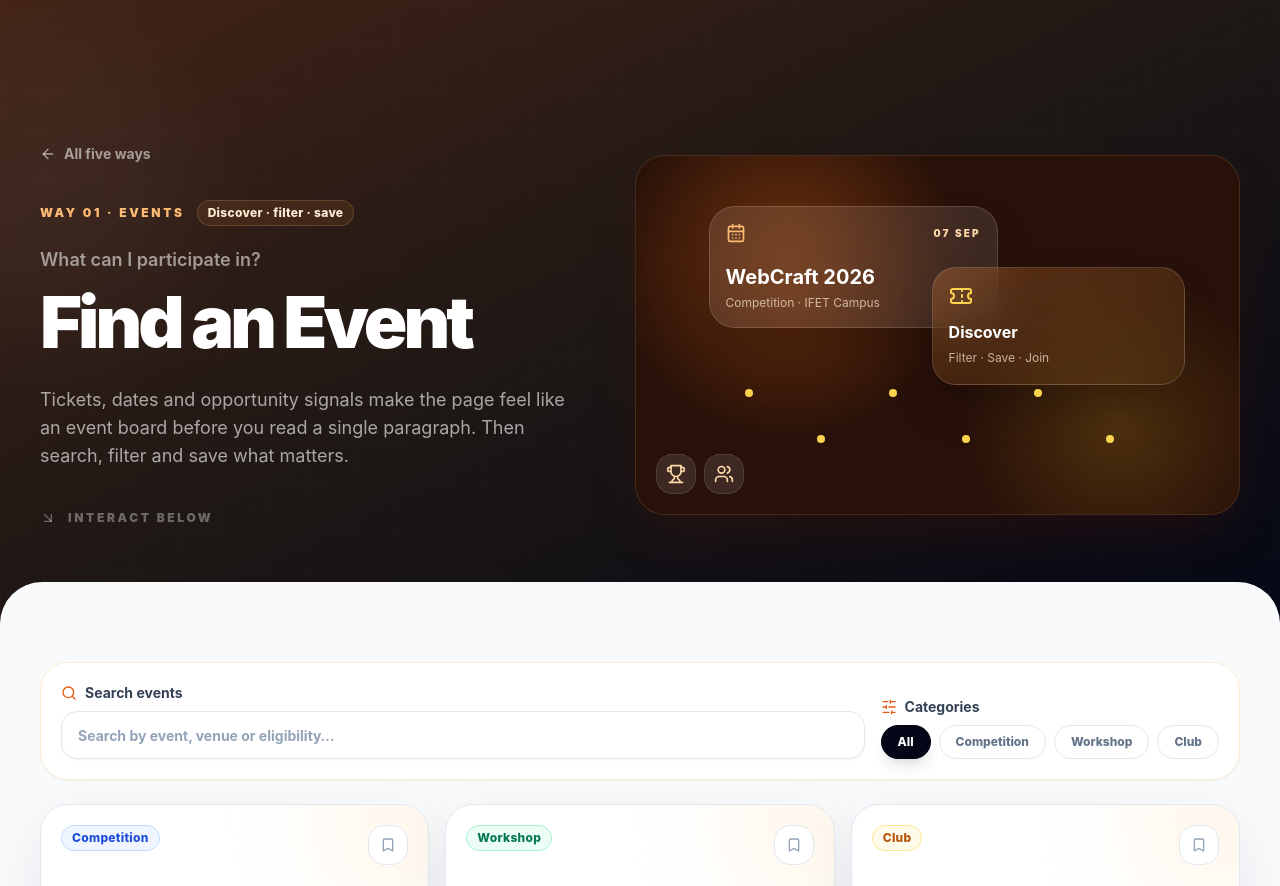
Scenario: filters events and can save an event
Type "web" into the field labelled "Search events" at (463, 735), box [61,711,864,759]
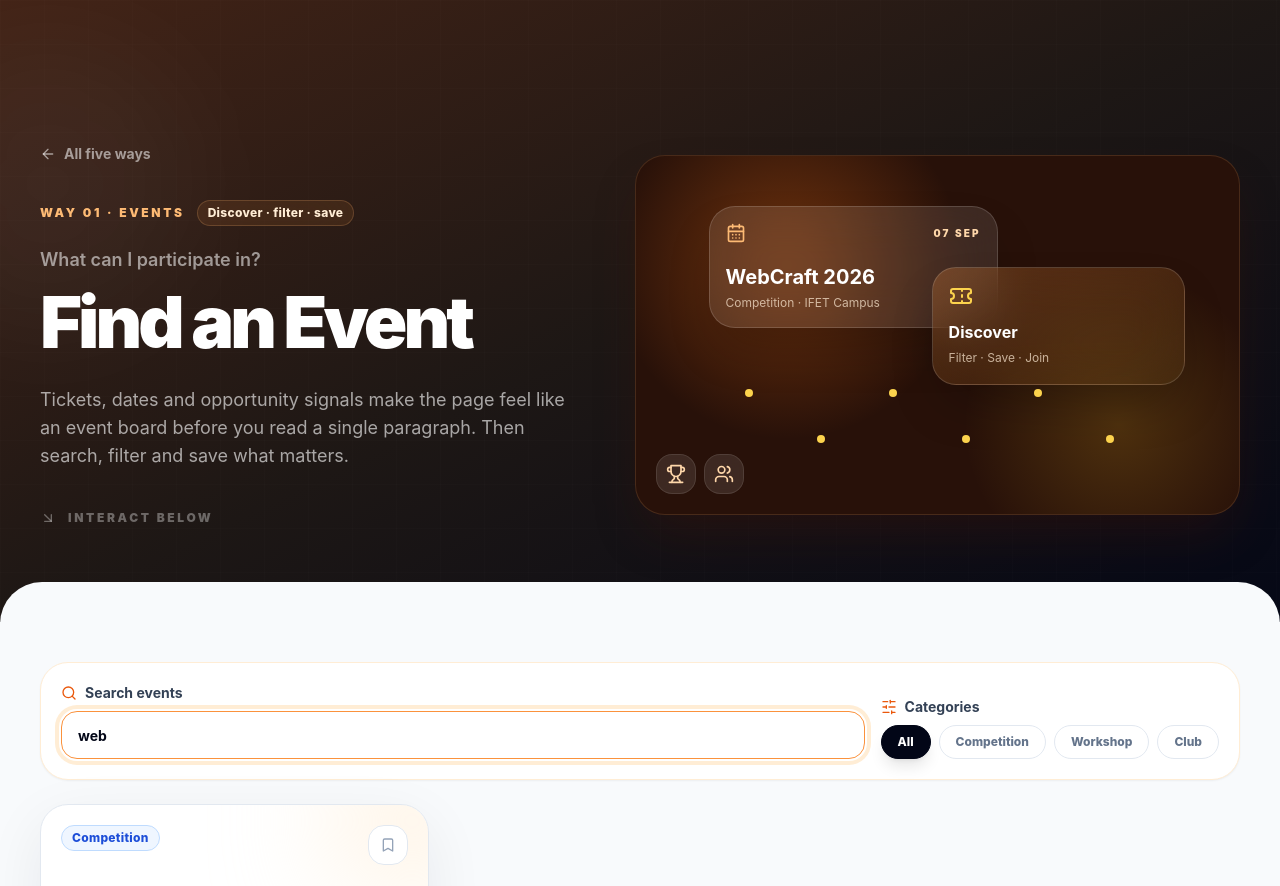
Expected: the text "WebCraft 2026" is shown, [726,265,875,289]
Click the button named "Save WebCraft 2026" at (388, 845), box [368,825,408,865]
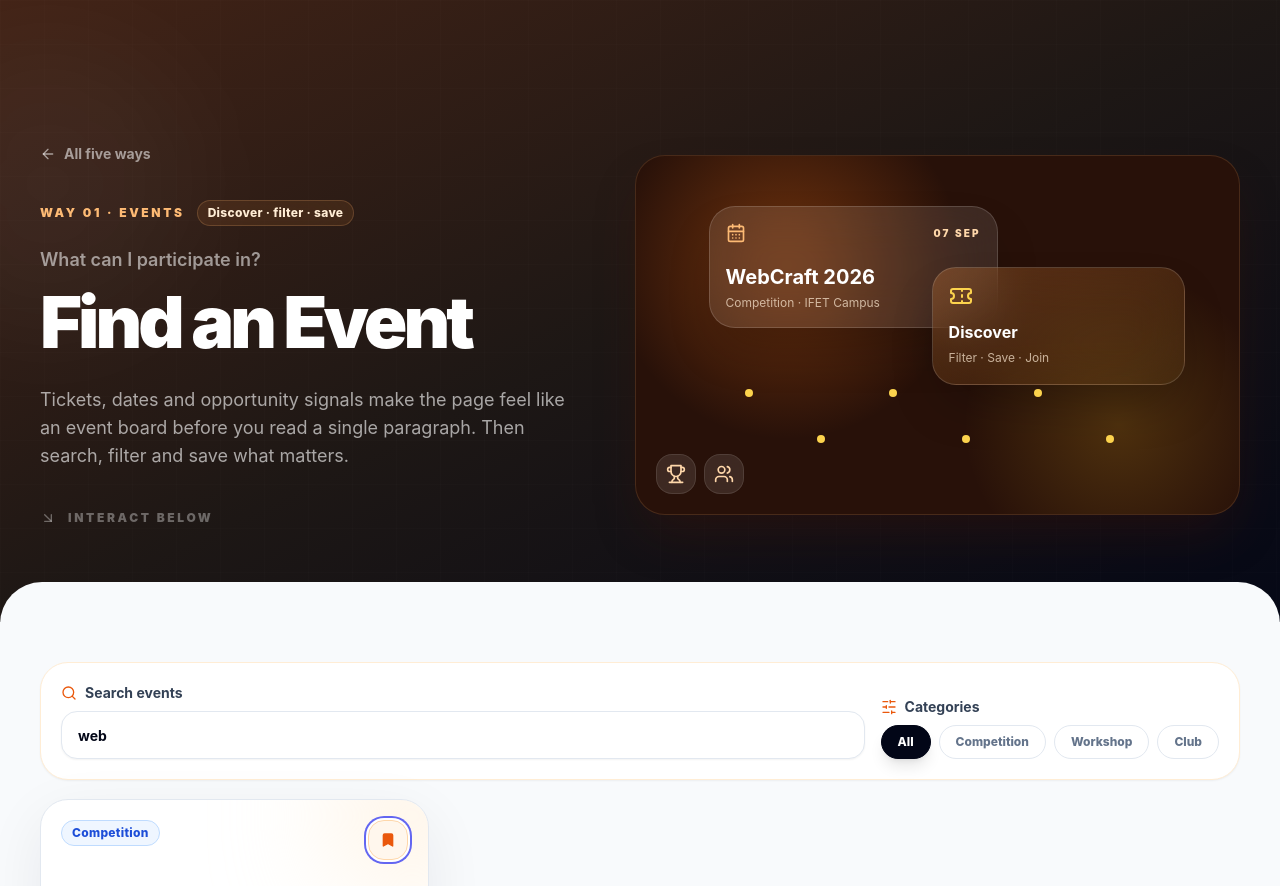
Expected: the button named "Unsave WebCraft 2026" is shown, [368,820,408,860]
